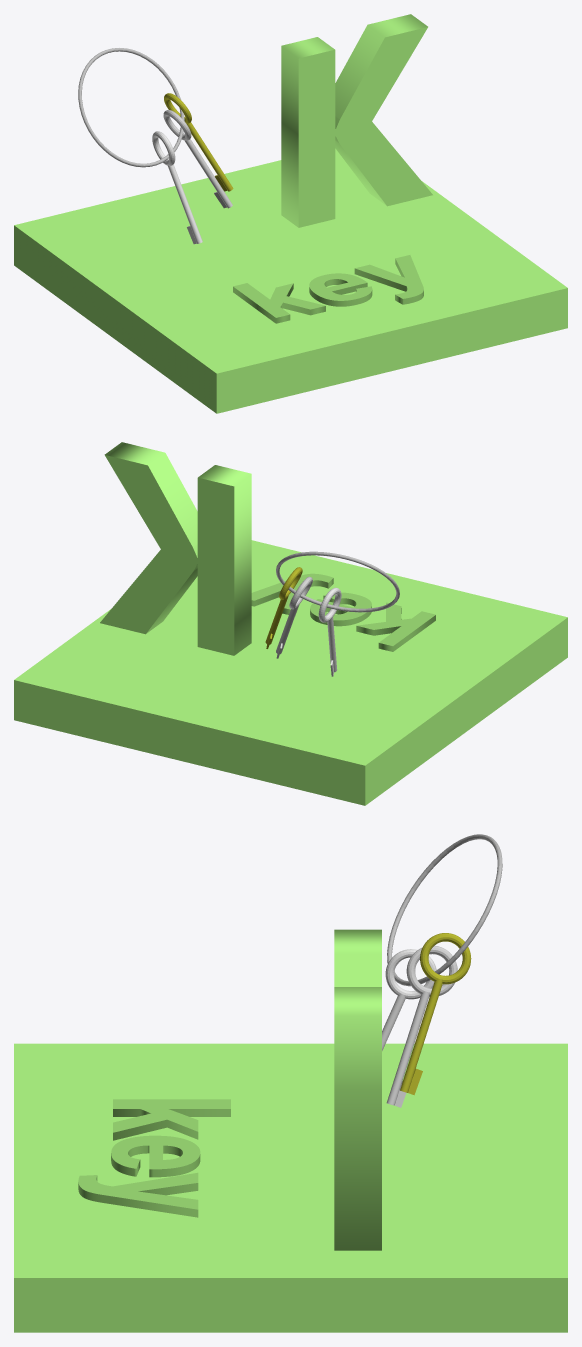
Rendered from kletter.glb.
3 renders of one model, top to bottom at view 1: azimuth 30°, elevation 25°; view 2: azimuth 150°, elevation 25°; view 3: azimuth 270°, elevation 25°, orthographic. The views are drawn at different scales.
Parts seen in each view (by area): view 1: Cube.022, Text.003, Text.002, Torus; view 2: Cube.022, Text.003, Text.002, Torus; view 3: Cube.022, Text.003, Text.002, Torus.
Part boxes in pixels (<box>): Cube.022: <box>14,148,567,413</box>; Text.003: <box>281,14,432,227</box>; Text.002: <box>233,255,423,323</box>; Torus: <box>78,48,233,244</box>; Cube.022: <box>14,540,567,805</box>; Text.003: <box>100,442,251,655</box>; Text.002: <box>251,573,435,651</box>; Torus: <box>265,551,399,676</box>; Cube.022: <box>14,1043,567,1332</box>; Text.003: <box>334,929,381,1250</box>; Text.002: <box>78,1099,230,1217</box>; Torus: <box>382,834,502,1107</box>.
Size of the model in its own units: 0.3237 by 0.1946 by 0.3237.
